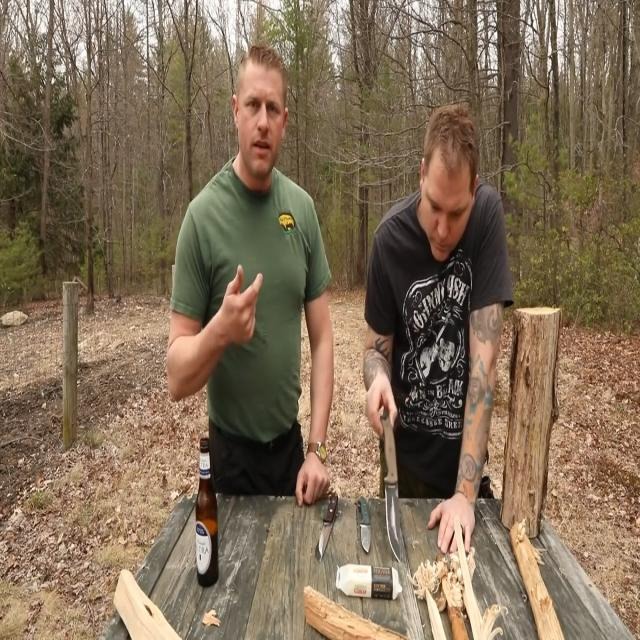knife: (380, 416, 414, 566), (353, 484, 376, 562), (318, 492, 338, 562)
